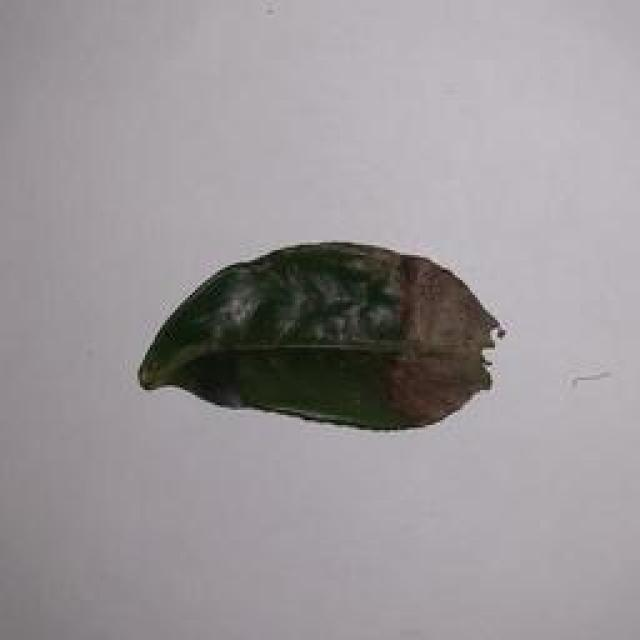Brown Blight: (130, 207, 540, 448)
